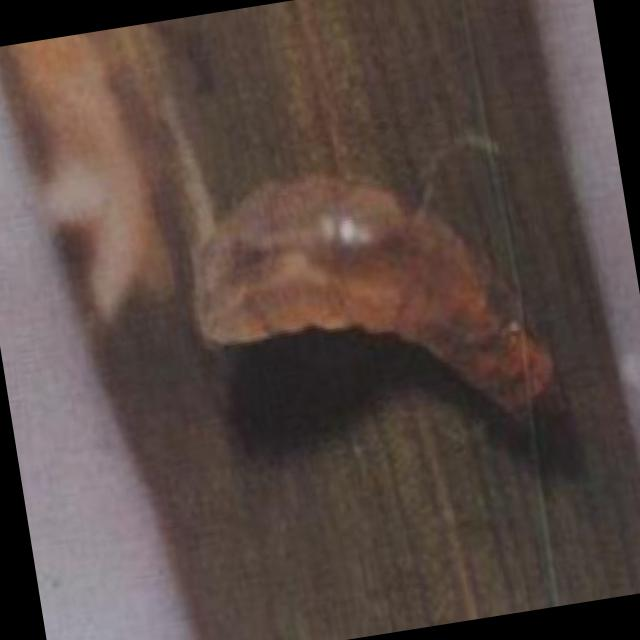whorl-maggot: (174, 142, 570, 473)
